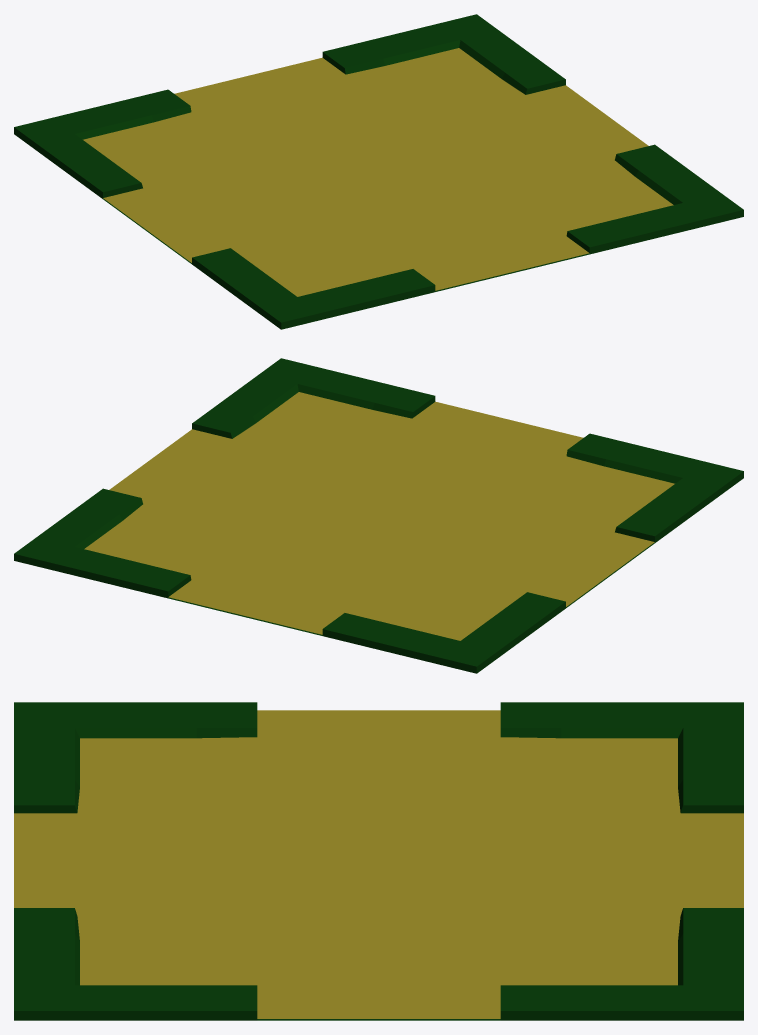
File: intersection_path.FBX
3 renders of one model, top to bottom at view 1: azimuth 30°, elevation 25°; view 2: azimuth 150°, elevation 25°; view 3: azimuth 270°, elevation 25°, orthographic. The views are drawn at different scales.
Bounding box in the file's own units: 167 × 2.43 × 167.
